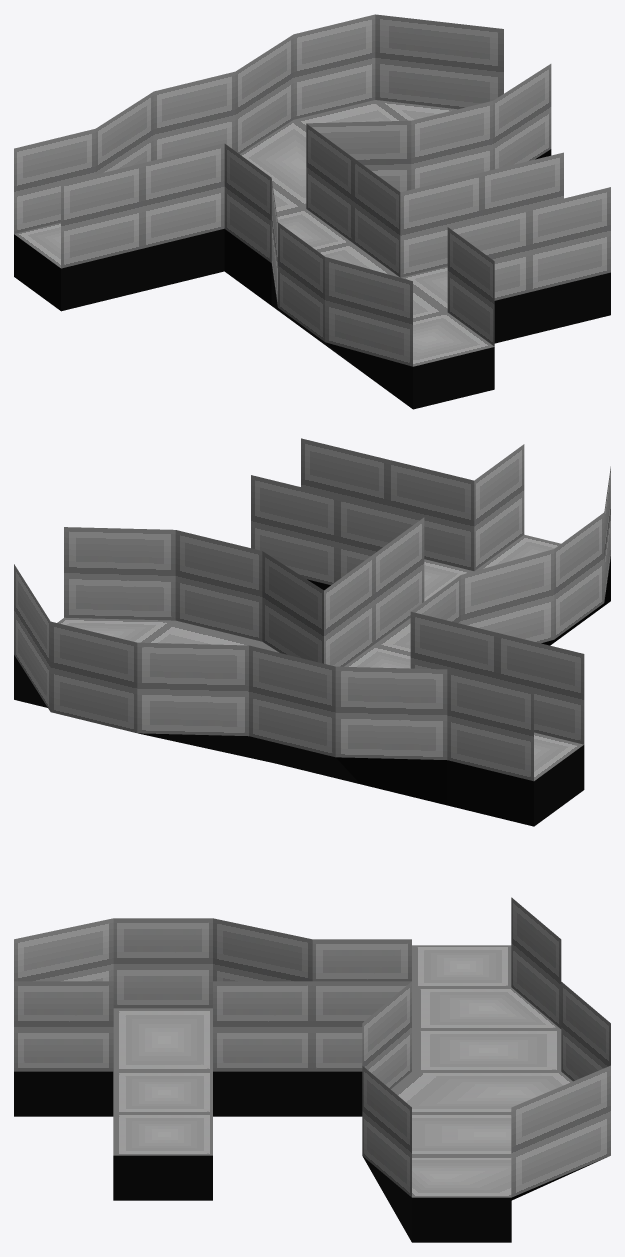
3 views of the same model, one above another, from view 1: azimuth 30°, elevation 25°; view 2: azimuth 150°, elevation 25°; view 3: azimuth 270°, elevation 25° (orthographic). The views are drawn at different scales.
Parts seen in each view (by area): view 1: Cube.144; view 2: Cube.144; view 3: Cube.144.
Part boxes in pixels (x1,y1,x2,y2): Cube.144: (14,14,610,409); Cube.144: (14,438,610,826); Cube.144: (14,897,610,1242).
Size of the model in its own units: 12 by 3 by 12.
Materials: 2 (1 with a texture image).
